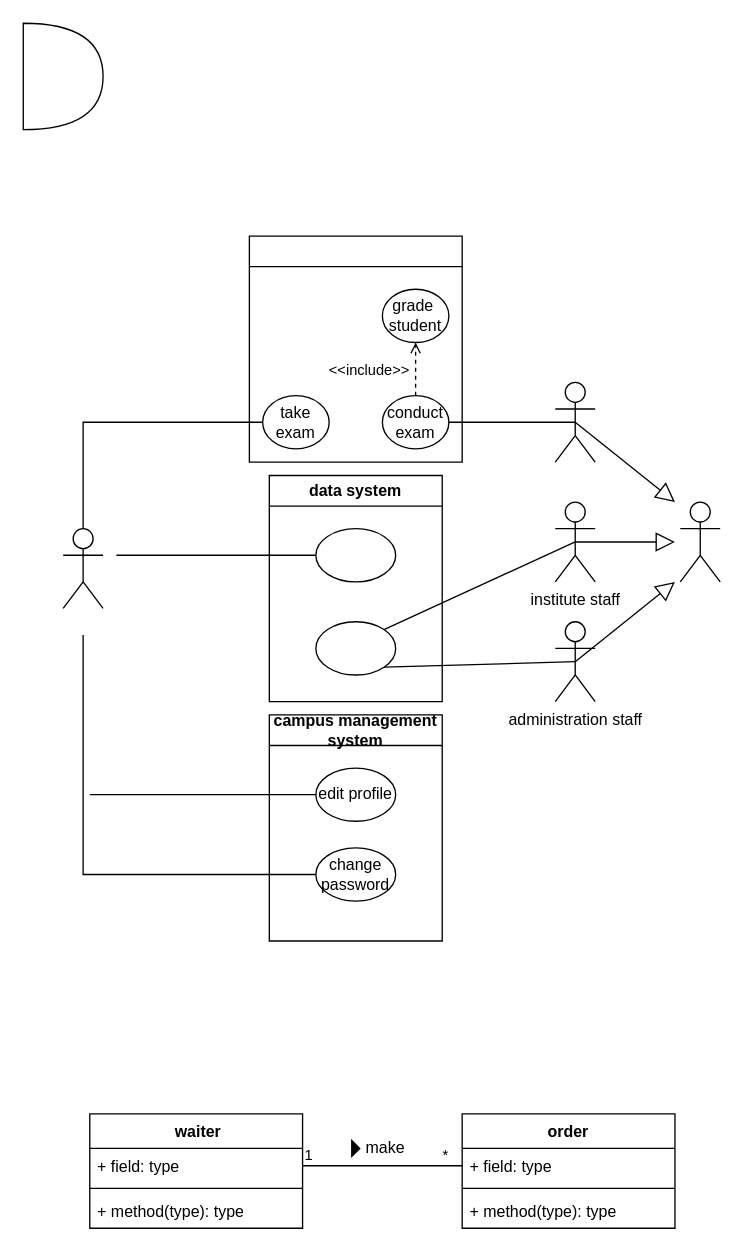
The diagram is 743 pixels wide and 1256 high, and some of its shapes have lost their labels. Here are the shapes that lost their labels. From the top down, the centre of each, then its label:
At point (355, 348): "exam system".
At point (574, 421): "Professor".
At point (355, 554): "get data".
At point (699, 541): "staff".
At point (82, 567): "Student".
At point (355, 647): "request data".
